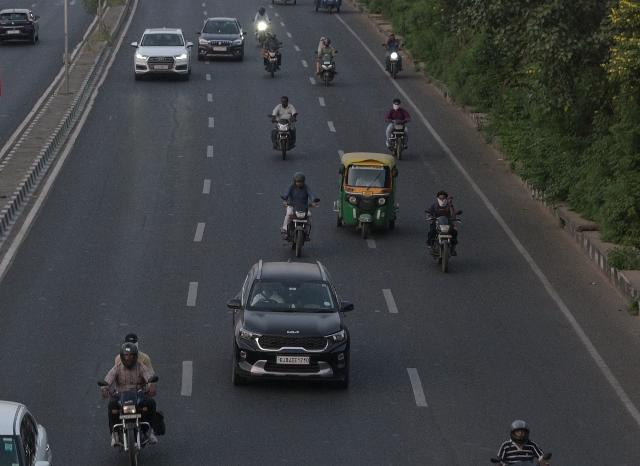With Helmet: (505, 417, 533, 443), (118, 342, 140, 366), (292, 170, 308, 190), (258, 6, 266, 16), (324, 38, 330, 46), (271, 31, 277, 39)
Without Helmet: (436, 191, 449, 208), (392, 99, 402, 111), (280, 97, 288, 108), (390, 34, 396, 42), (321, 38, 325, 44)
